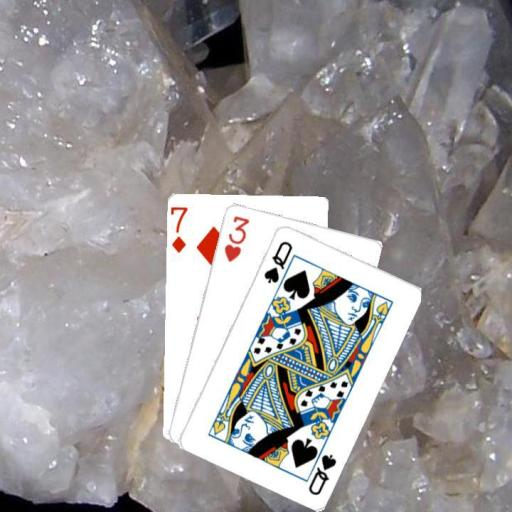3H: (220, 212, 251, 263)
7D: (169, 203, 189, 254)
QS: (260, 238, 294, 285), (305, 450, 338, 496)
